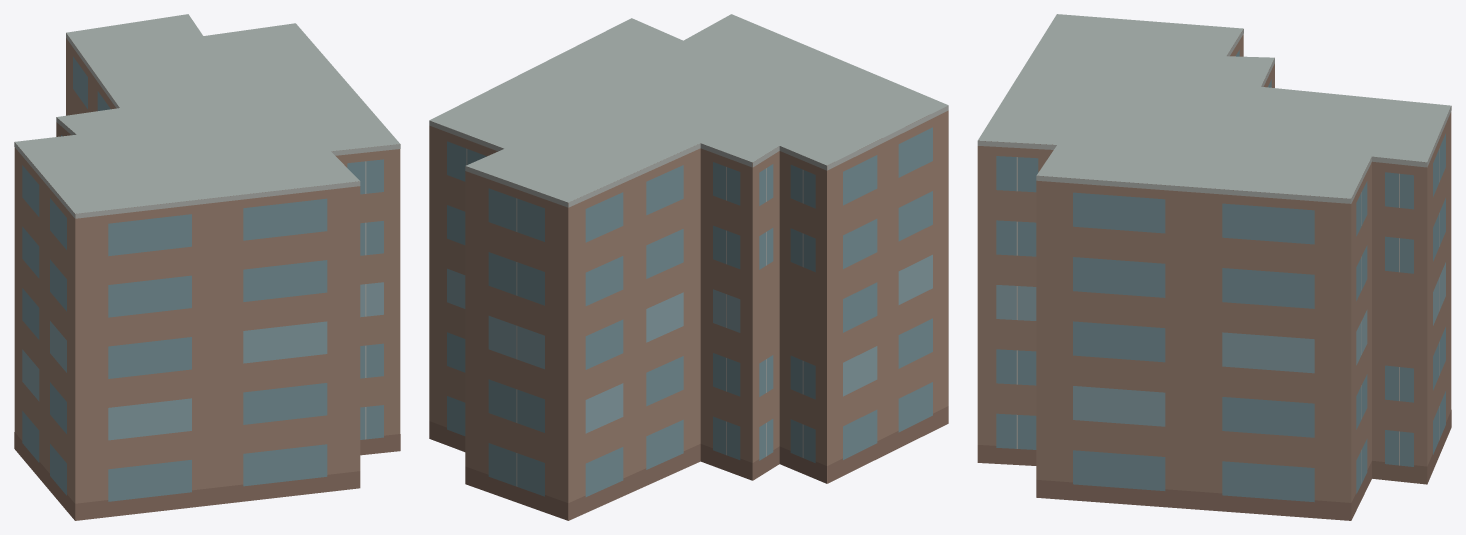
Rendered from survey-upis-32679088.glb.
3 views of the same model, side by side, from view 1: azimuth 30°, elevation 25°; view 2: azimuth 150°, elevation 25°; view 3: azimuth 270°, elevation 25° (orthographic). The views are drawn at different scales.
Parts seen in each view (by area): view 1: survey-upis-32679088.tmp; view 2: survey-upis-32679088.tmp; view 3: survey-upis-32679088.tmp.
Boxes of the visible parts, left/top/right/bottom form: survey-upis-32679088.tmp: left=14, top=14, right=400, bottom=520; survey-upis-32679088.tmp: left=429, top=14, right=948, bottom=520; survey-upis-32679088.tmp: left=977, top=14, right=1451, bottom=520.
Size of the model in its own units: 18.77 by 15.25 by 20.34.
